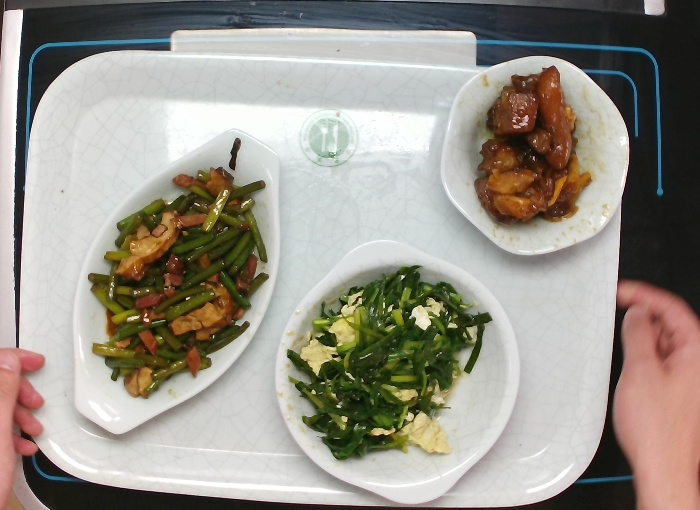JYsf-Shuang_Er_Wan: (270, 236, 524, 510)
JYsf-Yu_Pan: (66, 124, 285, 438)
WCQzf-Hua_Duo_Wan: (436, 51, 633, 258)
